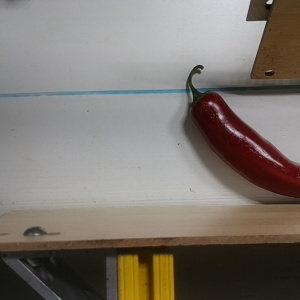Cut Point: (186, 85, 220, 120)
